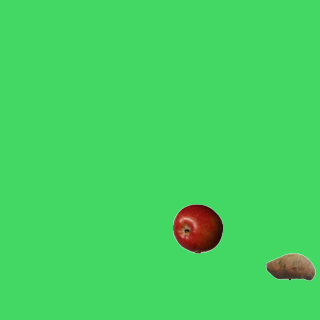Apple Braeburn: (172, 203, 222, 253)
Potato Sweet: (265, 241, 315, 291)
